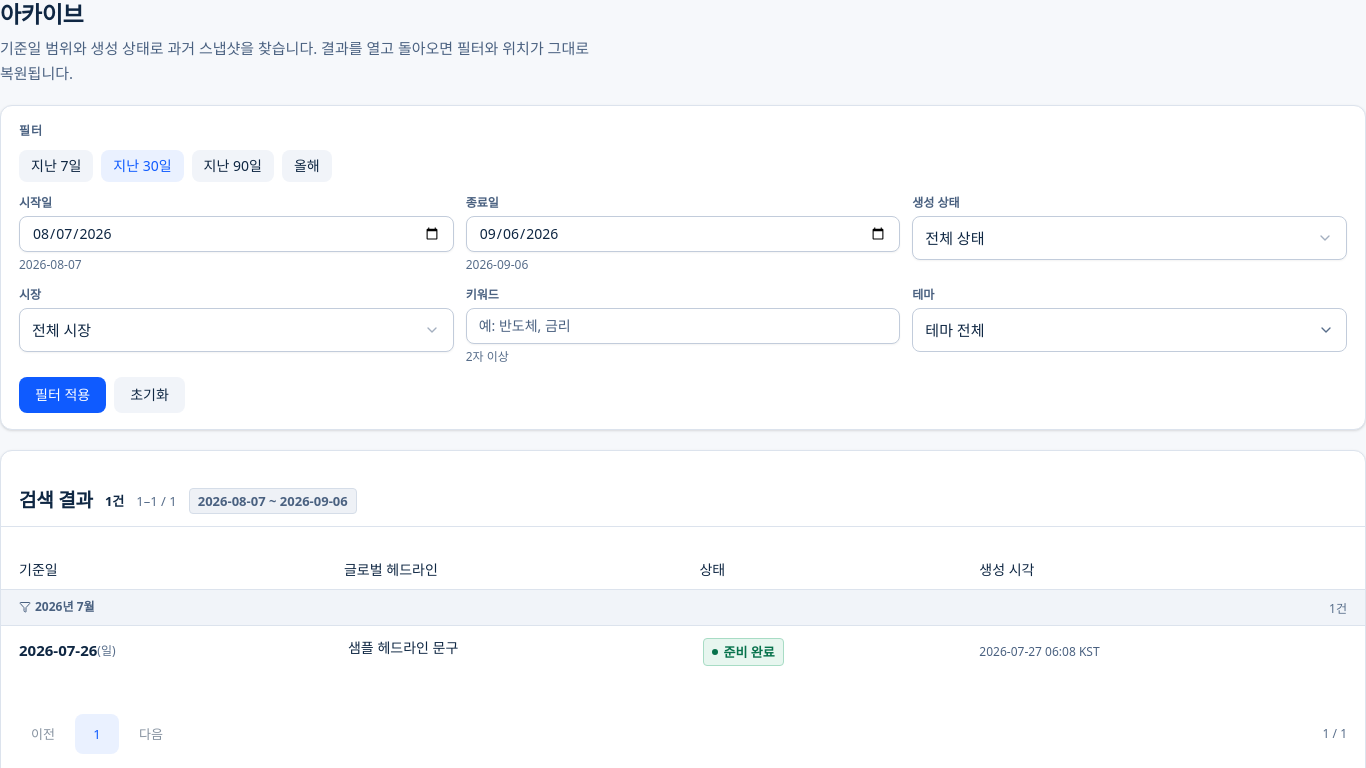
Test: ArchiveSearchPage › shows a catalog error state while keeping non-theme archive search usable
Click the button "테마 전체".
click(955, 330)  # box [912,308,1347,352]
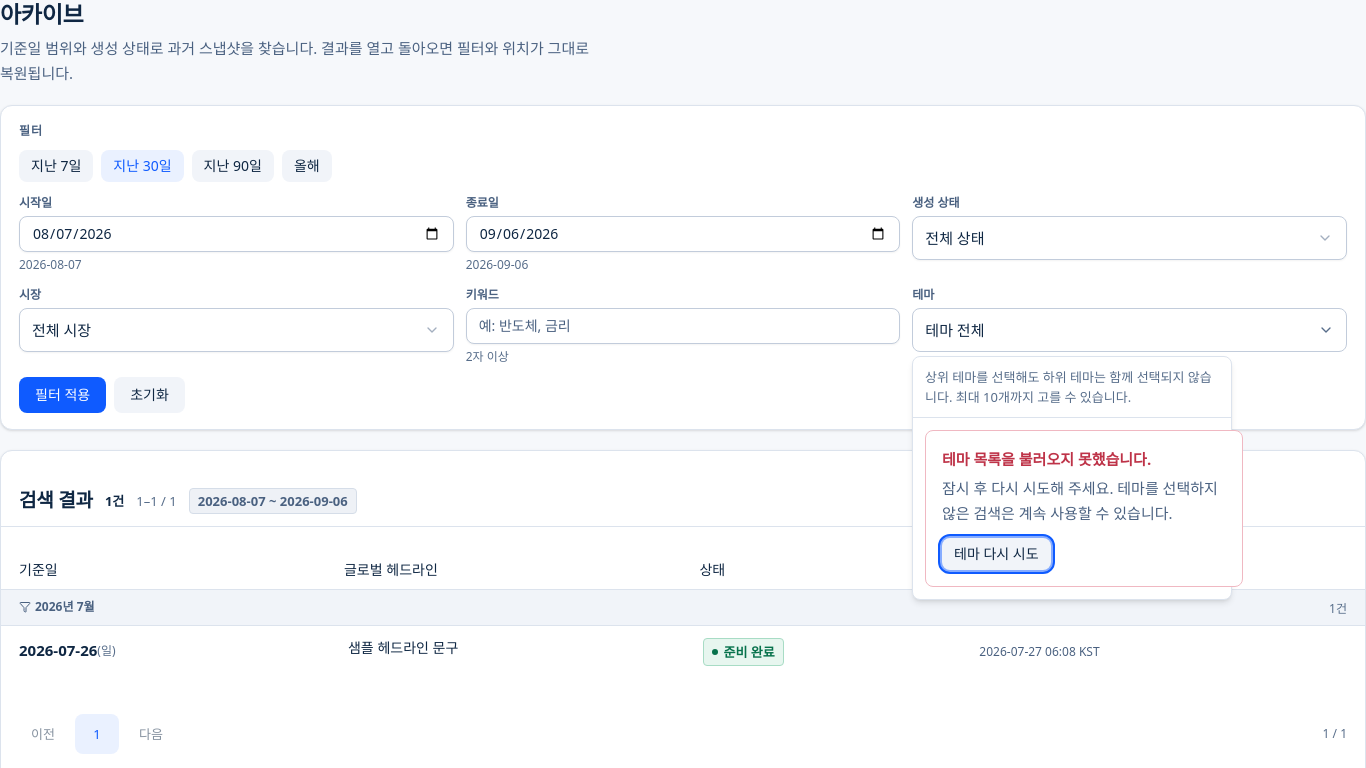
Result: the message shows "테마 목록을 불러오지 못했습니다." at [942,449,1151,469]
Result: the button "테마 다시 시도" is shown at [942,538,1051,570]
